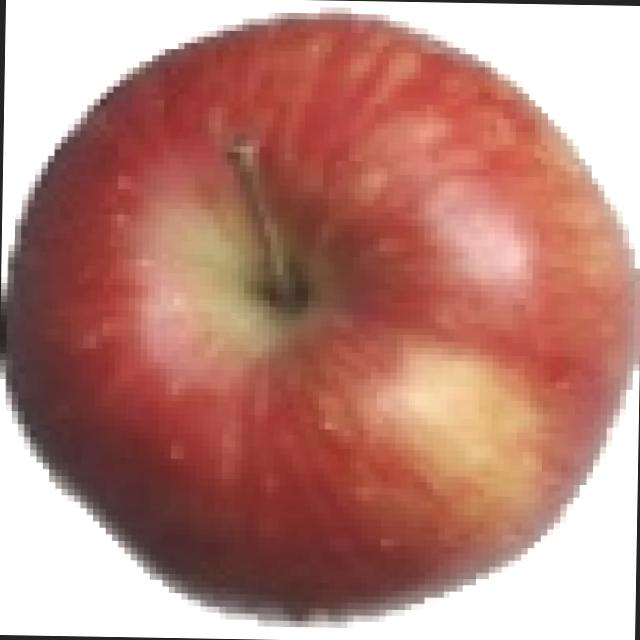apple: (0, 9, 639, 622)
